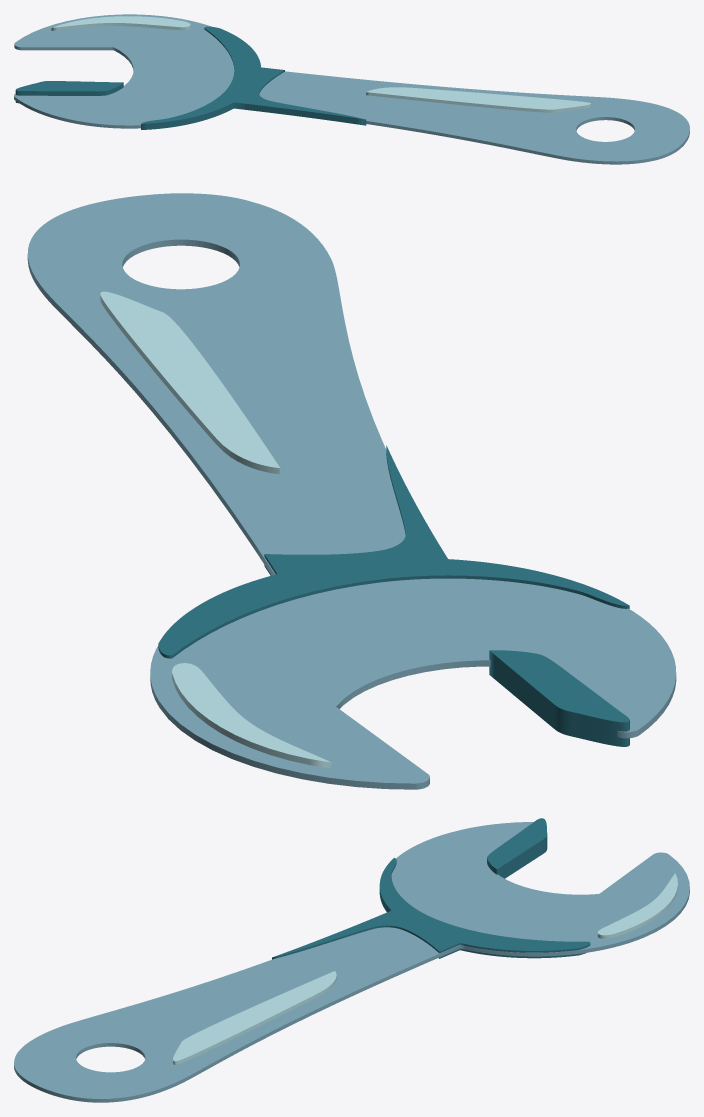
File: emoji_u1f527.glb
3 views of the same model, one above another, from view 1: azimuth 30°, elevation 25°; view 2: azimuth 150°, elevation 25°; view 3: azimuth 270°, elevation 25° (orthographic). The views are drawn at different scales.
Visible parts, largest first — view 1: emoji_u1f527; view 2: emoji_u1f527; view 3: emoji_u1f527.
Part boxes in pixels (x1,y1,x2,y2): emoji_u1f527: (14, 14, 689, 164); emoji_u1f527: (27, 193, 676, 789); emoji_u1f527: (14, 818, 689, 1102).
Bounding box in the file's own units: 0.0328 × 0.0008 × 0.0339.
